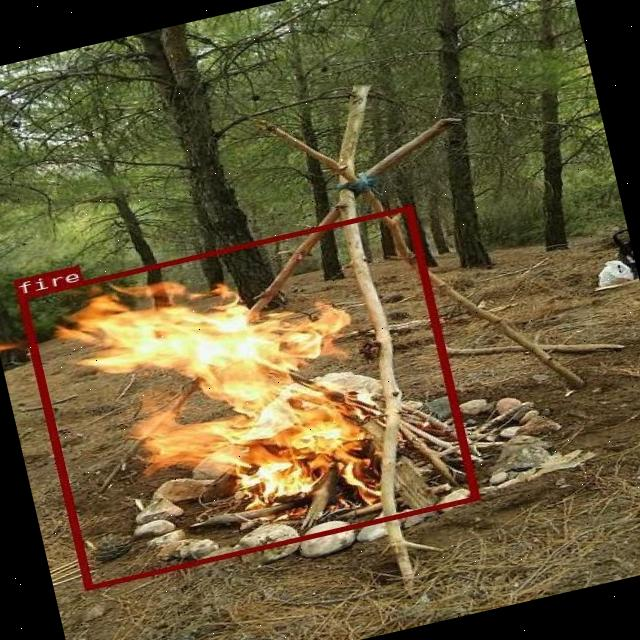fire: (16, 204, 478, 589)
